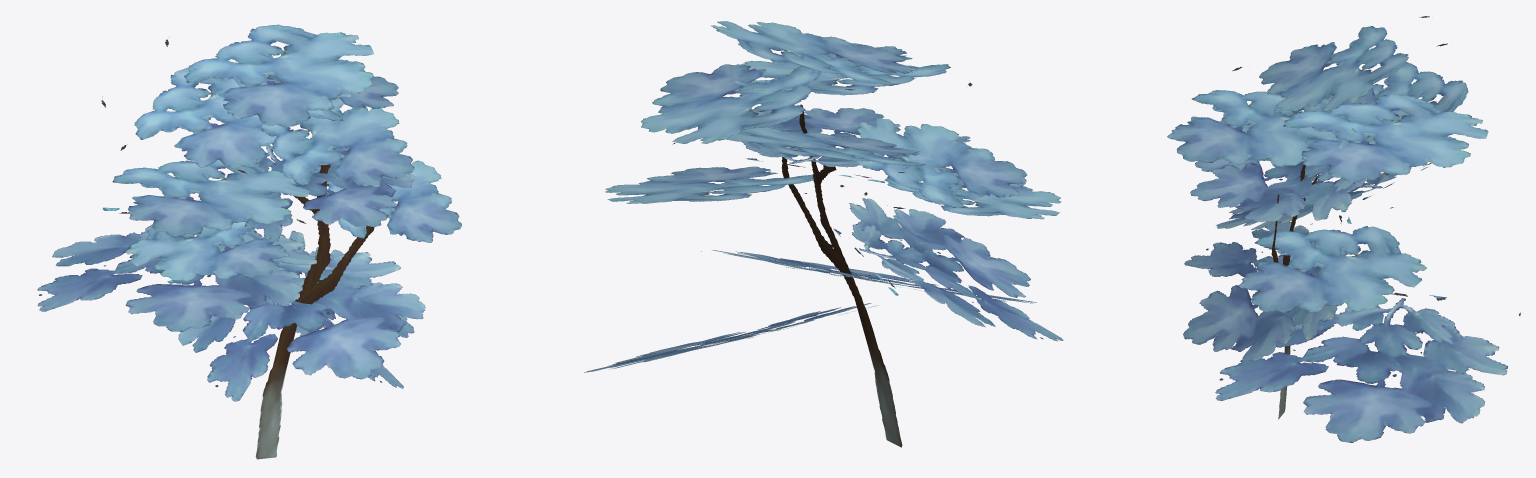
File: Map_10_plant01.FBX
3 renders of one model, left to right at view 1: azimuth 30°, elevation 25°; view 2: azimuth 150°, elevation 25°; view 3: azimuth 270°, elevation 25°, orthographic. The views are drawn at different scales.
Parts seen in each view (by area): view 1: Map_10_plant01; view 2: Map_10_plant01; view 3: Map_10_plant01.
Boxes of the visible parts, x1,y1,x2,y2 form: Map_10_plant01: (37, 24, 461, 459); Map_10_plant01: (584, 21, 1063, 447); Map_10_plant01: (1167, 16, 1520, 442).
Size of the model in its own units: 337 by 256 by 236.
1 material, 1 textured.
